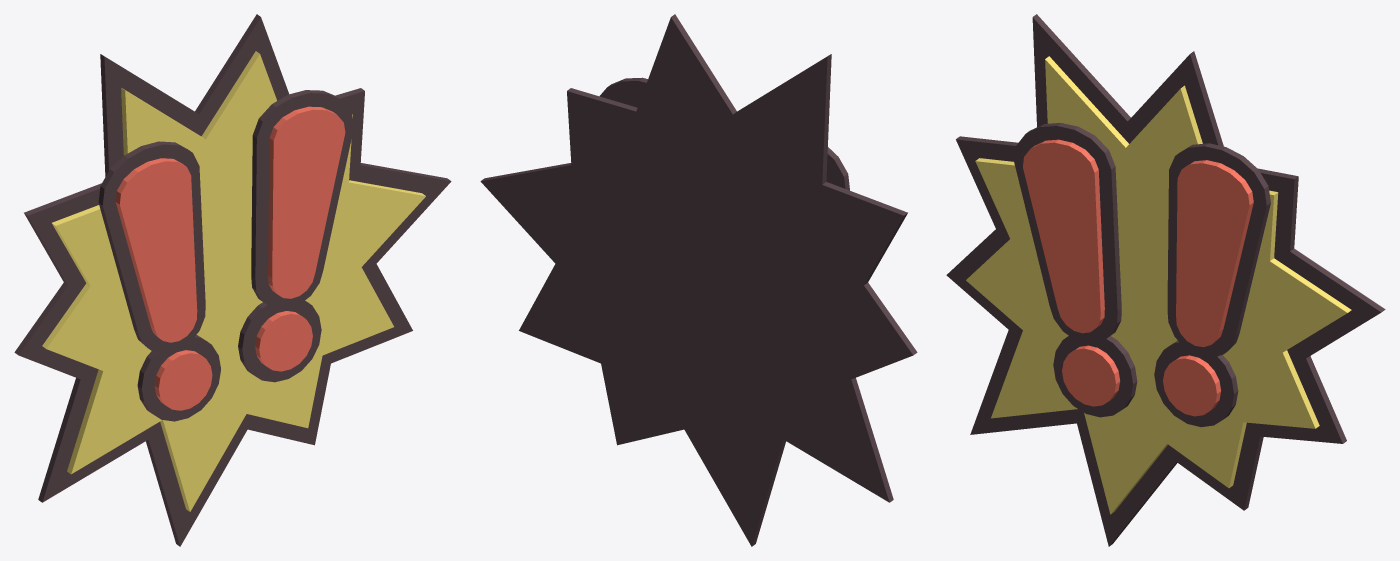
The model's file is FX_MonsterAlert.fbx.
The picture shows the model from 3 angles, left to right: view 1: azimuth 30°, elevation 25°; view 2: azimuth 150°, elevation 25°; view 3: azimuth 330°, elevation 25°; orthographic projection.
Parts seen in each view (by area): view 1: Burst, Bang, BurstOutline, BangOutline; view 2: BurstOutline, BangOutline; view 3: Burst, Bang, BurstOutline, BangOutline.
Boxes of the visible parts, x1,y1,x2,y2 form: Burst: (42,51,425,511); Bang: (115,106,345,410); BurstOutline: (14,14,451,546); BangOutline: (98,90,353,421); BurstOutline: (480,14,917,546); BangOutline: (599,77,849,190); Burst: (966,56,1351,514); Bang: (1023,139,1253,416); BurstOutline: (946,14,1385,546); BangOutline: (1014,123,1270,427).
Size of the model in its own units: 1.2 by 1.35 by 0.08.
